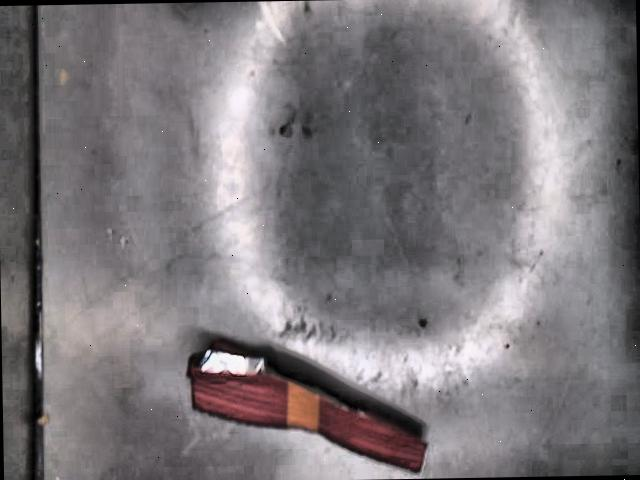Plastic: (185, 341, 427, 474)
